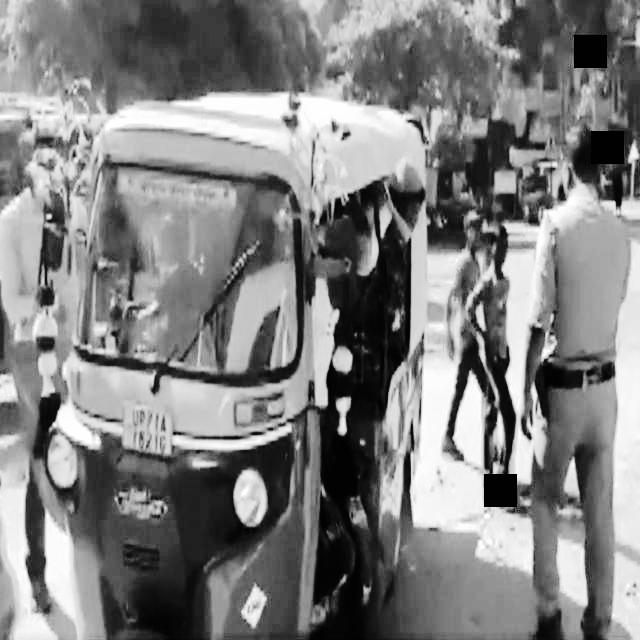Auto-Rickshaw: (94, 105, 422, 633)
